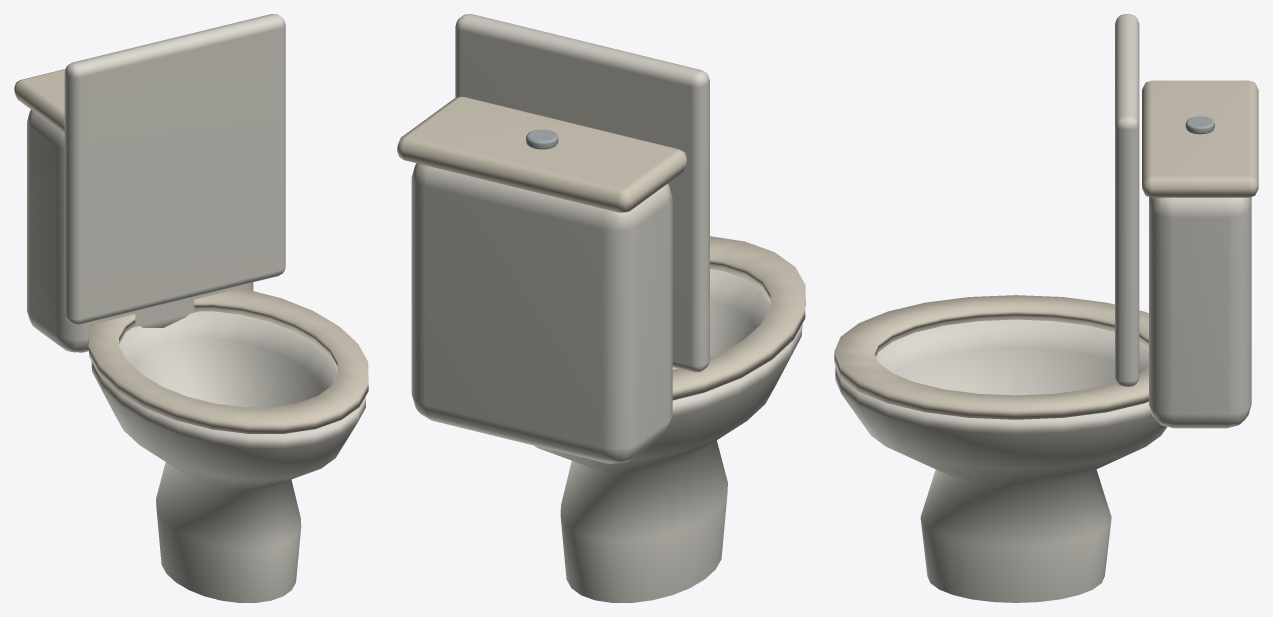
File: 13_standard_toilet.glb
3 views of the same model, side by side, from view 1: azimuth 30°, elevation 25°; view 2: azimuth 150°, elevation 25°; view 3: azimuth 270°, elevation 25° (orthographic). The views are drawn at different scales.
Visible parts, largest first — view 1: 13_standard_toilet__Static, 13_standard_toilet__lid_moving; view 2: 13_standard_toilet__Static, 13_standard_toilet__lid_moving; view 3: 13_standard_toilet__Static, 13_standard_toilet__lid_moving.
Part boxes in pixels (bbox=[...]): 13_standard_toilet__Static: bbox=[14, 69, 368, 602]; 13_standard_toilet__lid_moving: bbox=[64, 14, 285, 324]; 13_standard_toilet__Static: bbox=[397, 97, 805, 602]; 13_standard_toilet__lid_moving: bbox=[455, 14, 709, 372]; 13_standard_toilet__Static: bbox=[834, 80, 1258, 602]; 13_standard_toilet__lid_moving: bbox=[1115, 14, 1139, 386].
Size of the model in its own units: 0.491 by 1.04 by 0.7828.
